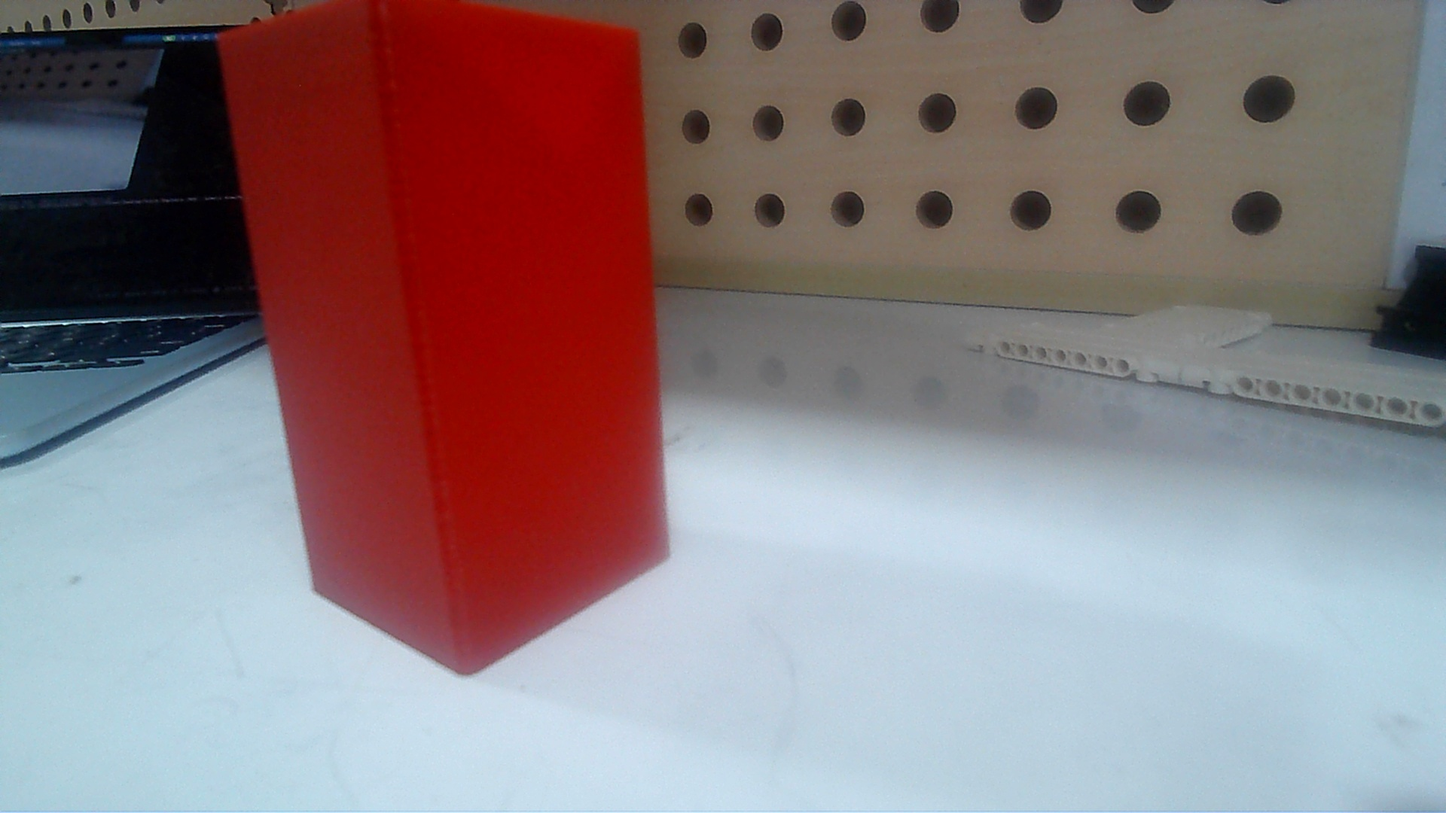red: (251, 1, 677, 702)
